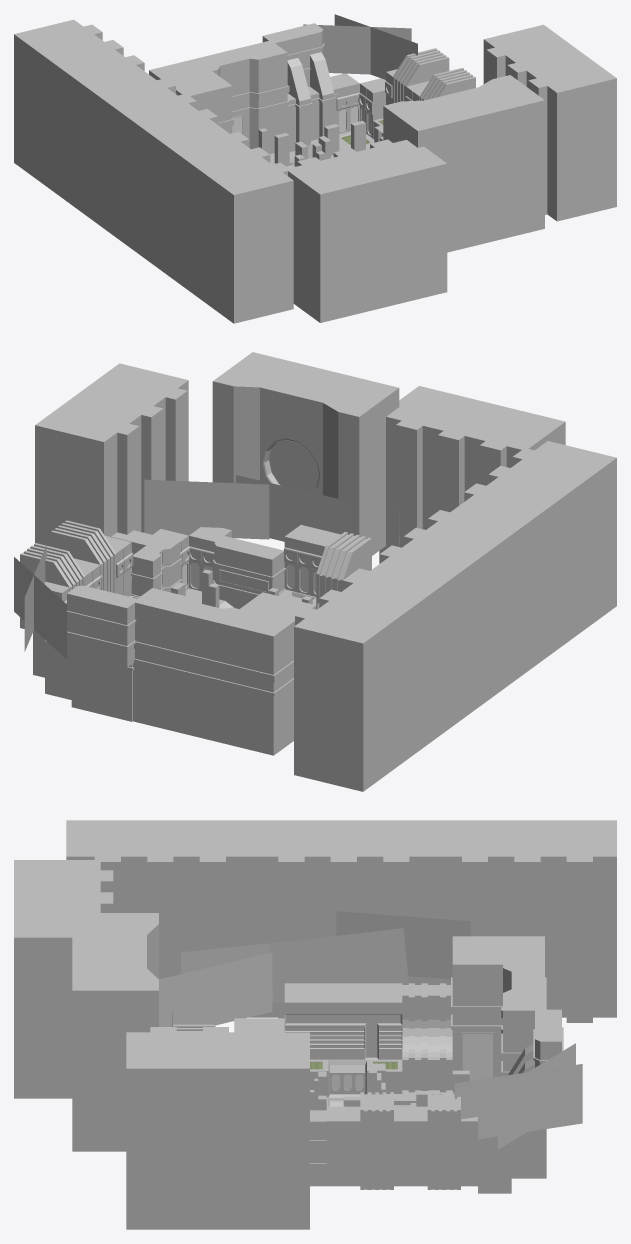
The model's file is GARDEN_00.fbx.
The picture shows the model from 3 angles, top to bottom: view 1: azimuth 30°, elevation 25°; view 2: azimuth 150°, elevation 25°; view 3: azimuth 270°, elevation 25°; orthographic projection. The views are drawn at different scales.
Visible parts, largest first — view 1: CONCRETE OUTER BUILDINGS, CONCRETE INNER BUILDINGS, BUSHES AND VEGI, Cubes and Pillars, CONCRETE GROUND; view 2: CONCRETE OUTER BUILDINGS, CONCRETE INNER BUILDINGS, BUSHES AND VEGI, Cubes and Pillars; view 3: CONCRETE OUTER BUILDINGS, CONCRETE INNER BUILDINGS, BUSHES AND VEGI, Cubes and Pillars.
Part boxes in pixels (bbox=[...]): CONCRETE OUTER BUILDINGS: bbox=[14, 19, 616, 323]; CONCRETE INNER BUILDINGS: bbox=[149, 23, 475, 154]; BUSHES AND VEGI: bbox=[176, 14, 417, 95]; Cubes and Pillars: bbox=[258, 120, 383, 167]; CONCRETE GROUND: bbox=[270, 131, 374, 166]; CONCRETE OUTER BUILDINGS: bbox=[35, 352, 616, 791]; CONCRETE INNER BUILDINGS: bbox=[20, 520, 371, 755]; BUSHES AND VEGI: bbox=[14, 475, 399, 658]; Cubes and Pillars: bbox=[171, 569, 312, 607]; CONCRETE OUTER BUILDINGS: bbox=[14, 820, 616, 1229]; CONCRETE INNER BUILDINGS: bbox=[173, 936, 563, 1193]; BUSHES AND VEGI: bbox=[159, 911, 582, 1149]; Cubes and Pillars: bbox=[310, 1063, 469, 1110].
Size of the model in its own units: 70.07 by 28.48 by 71.81.
